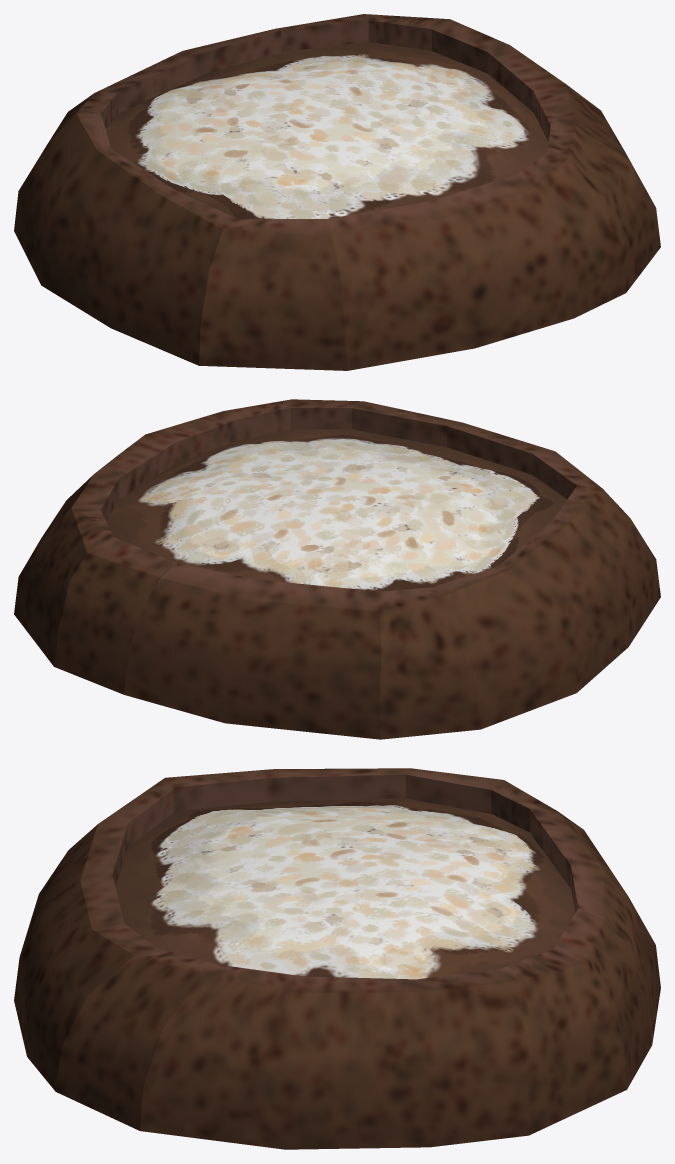
File: Nest.FBX
3 views of the same model, one above another, from view 1: azimuth 30°, elevation 25°; view 2: azimuth 150°, elevation 25°; view 3: azimuth 270°, elevation 25° (orthographic). The views are drawn at different scales.
Parts seen in each view (by area): view 1: Nest; view 2: Nest; view 3: Nest.
Part boxes in pixels (box(x1,y1,x2,y2)): Nest: box(14, 14, 660, 370); Nest: box(14, 399, 660, 739); Nest: box(14, 768, 660, 1149).
Size of the model in its own units: 182 by 39.8 by 172.
